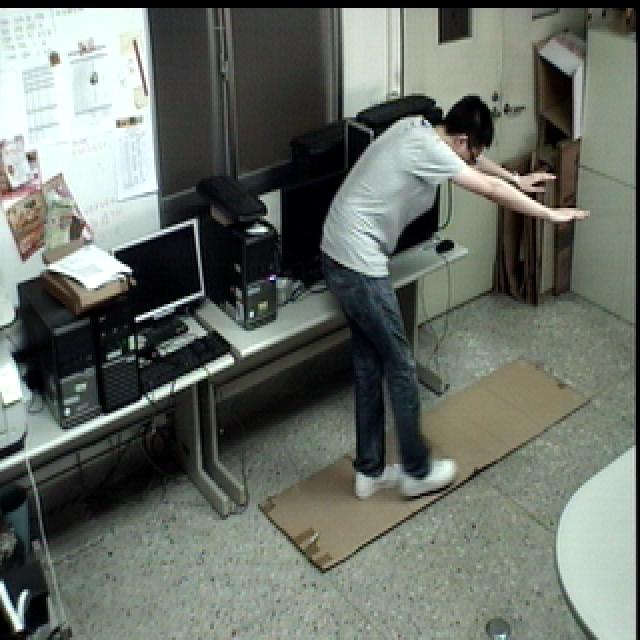bend: (313, 77, 598, 500)
